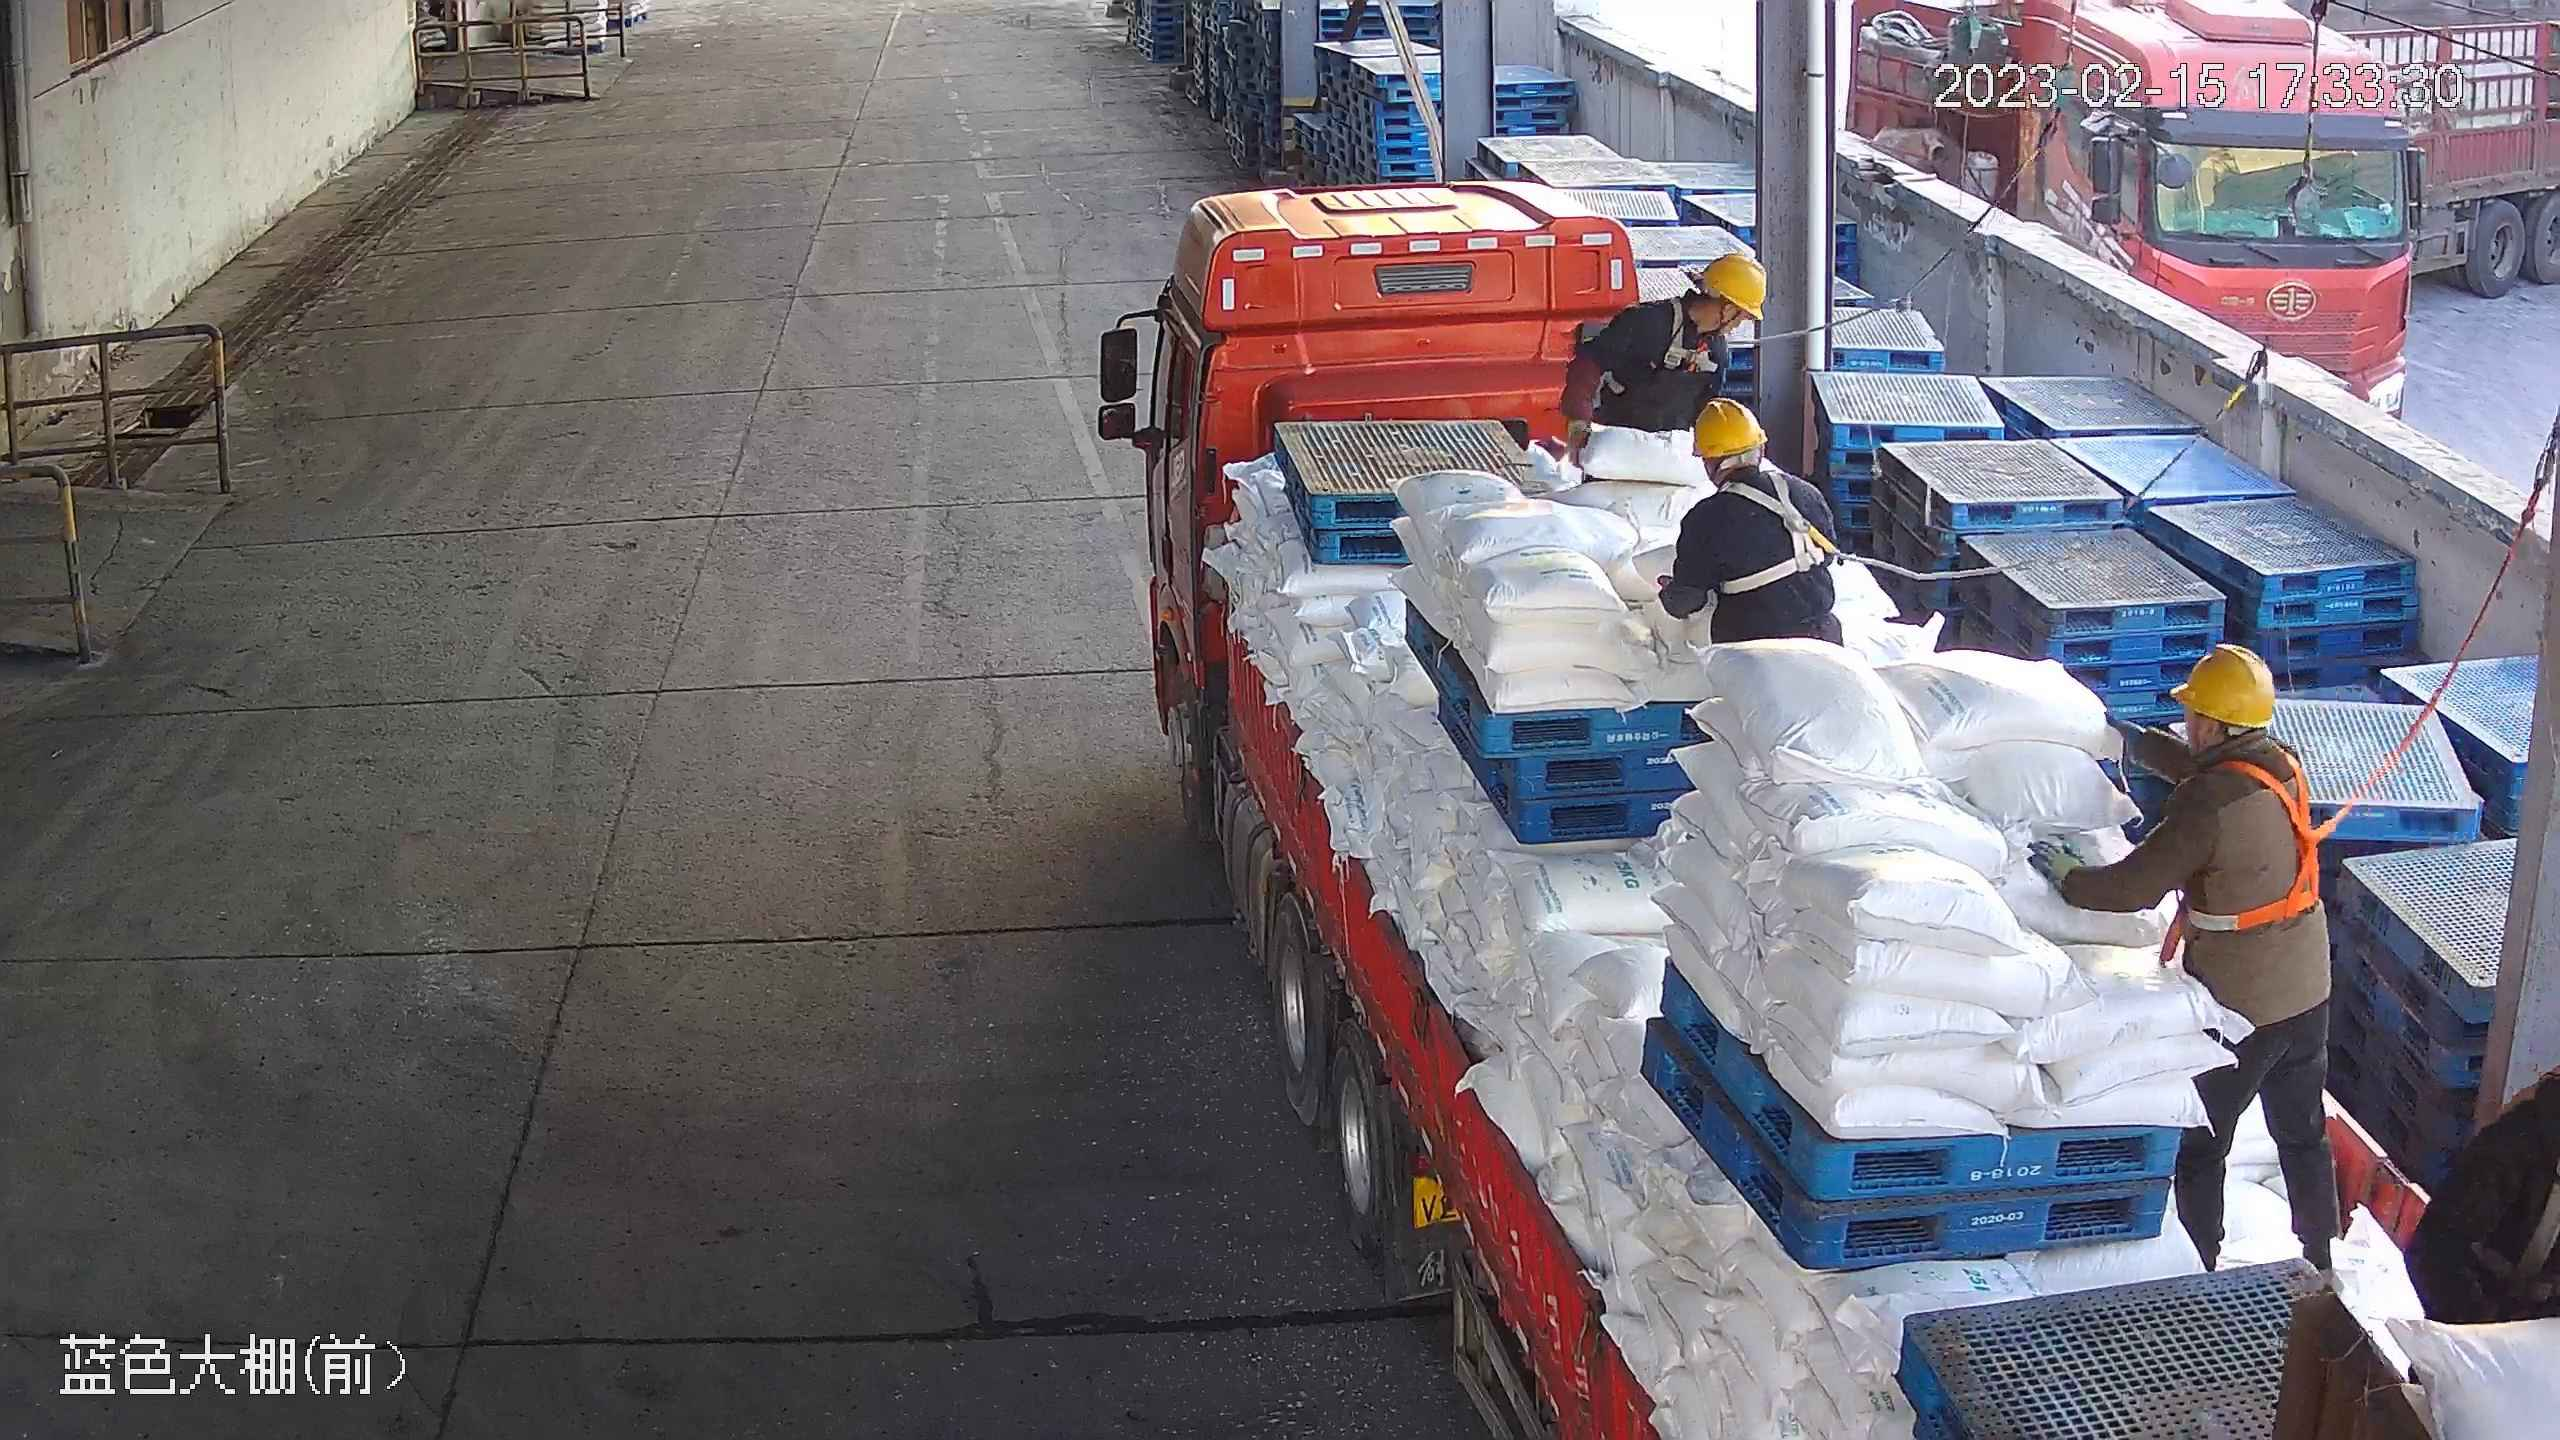belt: (2139, 735, 2349, 970), (1710, 470, 1860, 595), (1646, 298, 1742, 389)
head: (2152, 638, 2313, 816), (1672, 394, 1835, 530), (1615, 250, 1768, 356)
helmet: (2166, 643, 2277, 730), (1694, 254, 1769, 323), (1690, 395, 1769, 457)
people: (2025, 633, 2343, 1277), (1656, 391, 1849, 648), (1556, 253, 1772, 470)
truck: (1139, 182, 2560, 1440)
